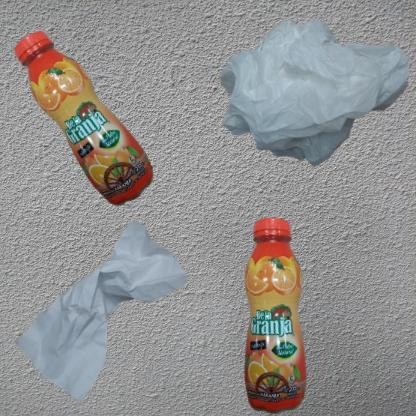bolsa: (213, 10, 416, 177)
botella: (10, 10, 193, 272), (213, 213, 359, 416)
papel: (10, 213, 192, 416)
